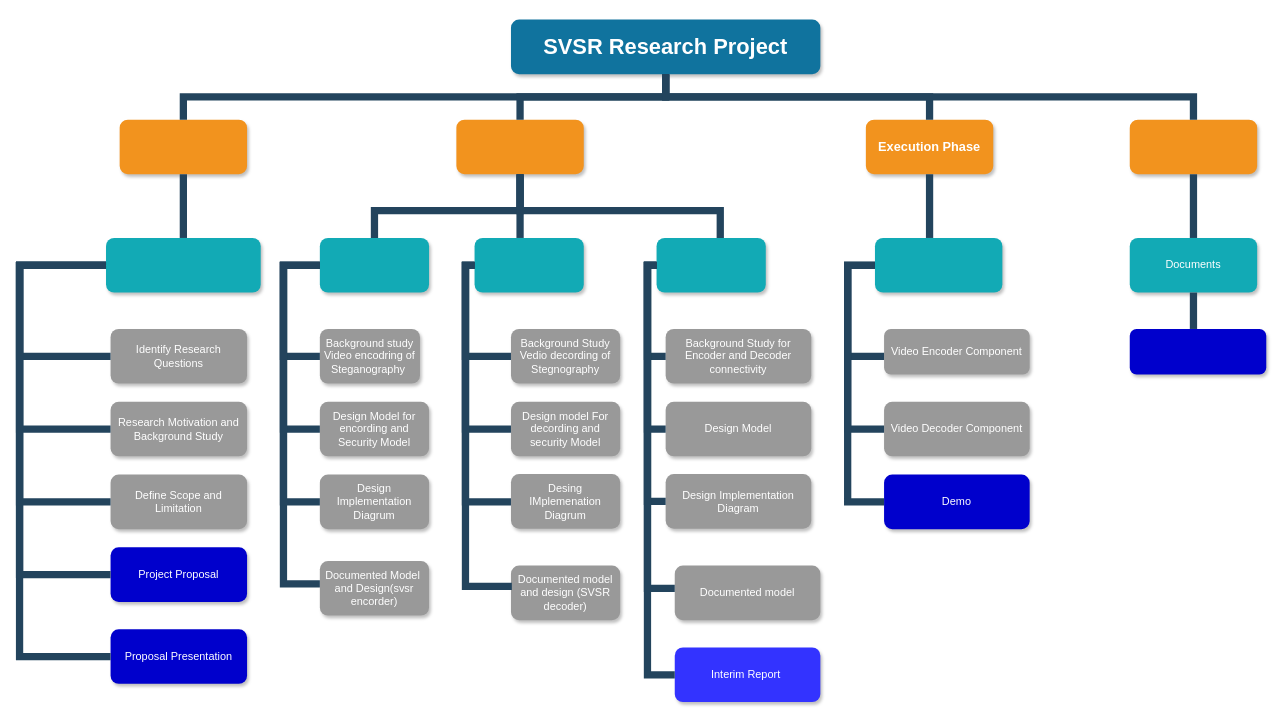
Some shapes in this 1287 by 723 pixel diagram are drawn without their labels. The shapes that lost their labels are listed below. From the top down, each one's centre as x and y in pixels, then its label:
At point (184, 148): "Initial Phase".
At point (520, 148): "Planing Phase".
At point (1194, 148): "Closeout Phase".
At point (184, 266): "Requirements Gathering and Analyzing".
At point (375, 266): "Research Phase1".
At point (529, 266): "Research Phase 2".
At point (711, 266): "Research Phase 3".
At point (939, 266): "Implementation".
At point (1198, 352): "Thesis".
